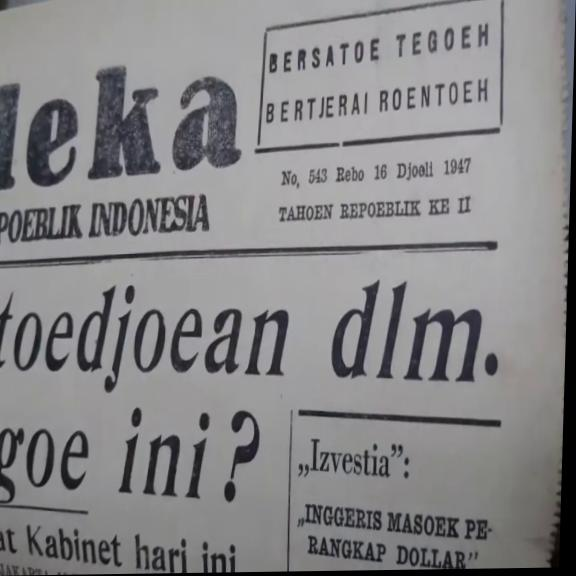Kertas: (0, 0, 570, 576)
